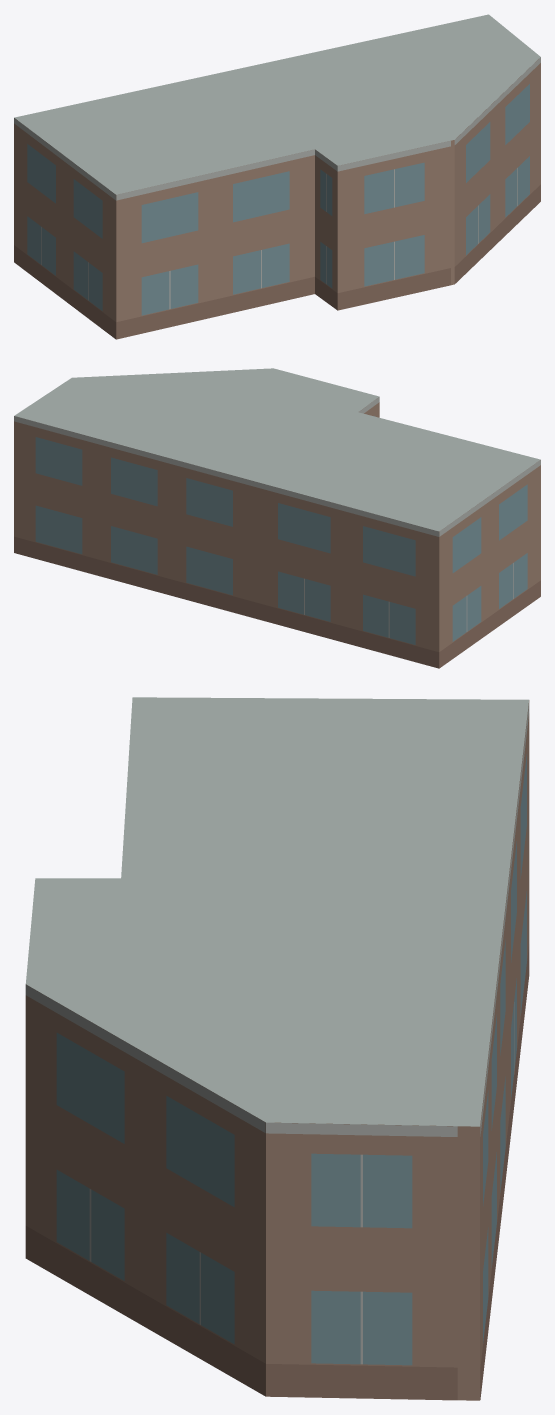
The model's file is survey-upis-33010385.glb.
3 views of the same model, one above another, from view 1: azimuth 30°, elevation 25°; view 2: azimuth 150°, elevation 25°; view 3: azimuth 270°, elevation 25° (orthographic). The views are drawn at different scales.
Parts seen in each view (by area): view 1: survey-upis-33010385.tmp; view 2: survey-upis-33010385.tmp; view 3: survey-upis-33010385.tmp.
Boxes of the visible parts, left/top/right/bottom form: survey-upis-33010385.tmp: left=14, top=14, right=540, bottom=339; survey-upis-33010385.tmp: left=14, top=368, right=540, bottom=668; survey-upis-33010385.tmp: left=25, top=697, right=529, bottom=1400.
Bounding box in the file's own units: 20.5 × 6.1 × 10.17.
